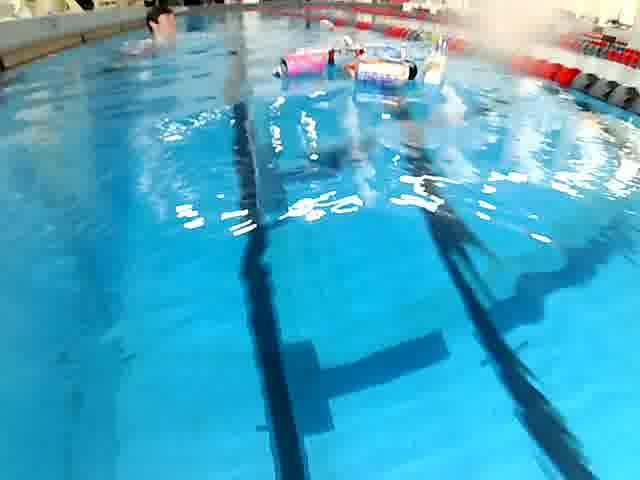Bottle: (356, 55, 420, 84)
Can: (278, 47, 328, 75)
